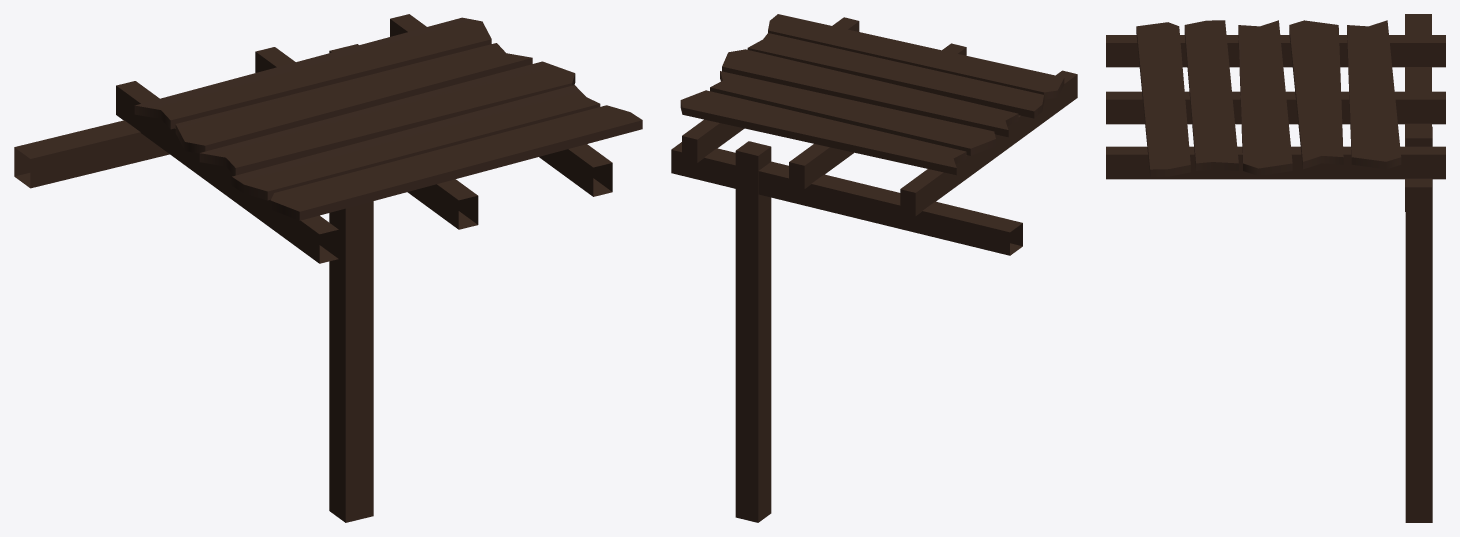
The model's file is envi_woodAttic4.fbx.
The picture shows the model from 3 angles, left to right: view 1: azimuth 30°, elevation 25°; view 2: azimuth 150°, elevation 25°; view 3: azimuth 270°, elevation 25°; orthographic projection. The views are drawn at different scales.
Parts seen in each view (by area): view 1: pCube85; view 2: pCube85; view 3: pCube85.
Part boxes in pixels (box(x1,y1,x2,y2)): pCube85: box(14, 14, 642, 522); pCube85: box(671, 14, 1077, 522); pCube85: box(1106, 14, 1445, 522).
Bounding box in the file's own units: 5.87 × 5.85 × 4.5.
